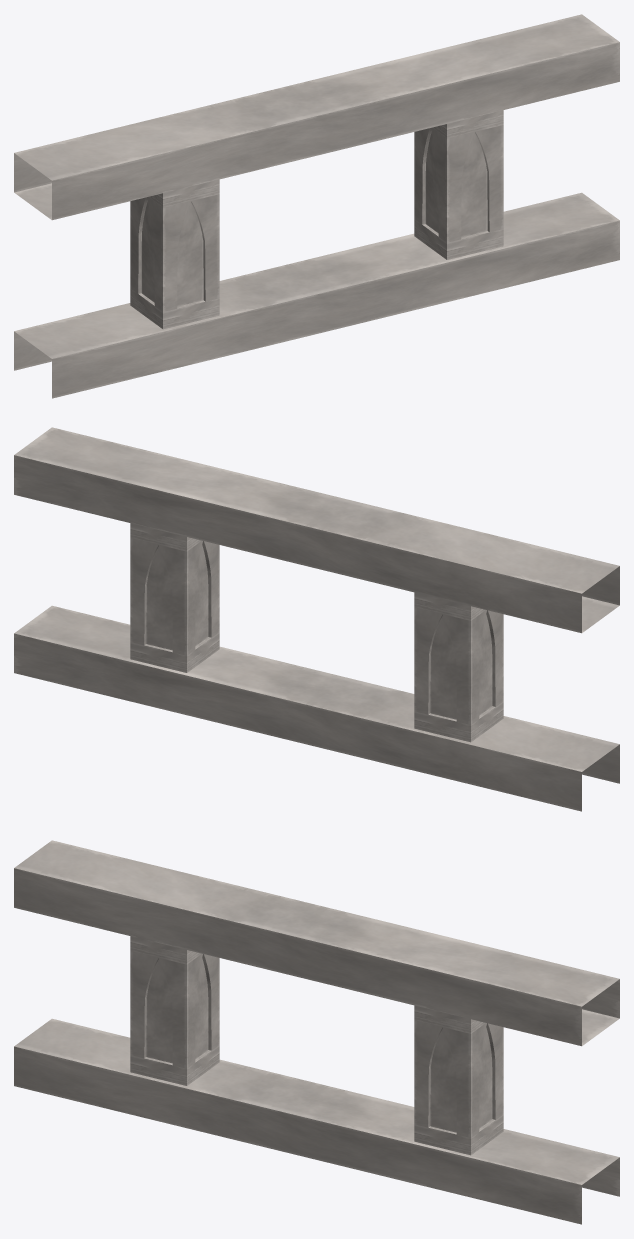
File: GuardRail_D.fbx
The picture shows the model from 3 angles, top to bottom: view 1: azimuth 30°, elevation 25°; view 2: azimuth 150°, elevation 25°; view 3: azimuth 330°, elevation 25°; orthographic projection.
Parts seen in each view (by area): view 1: GuardRail_D; view 2: GuardRail_D; view 3: GuardRail_D.
Boxes of the visible parts, x1,y1,x2,y2 form: GuardRail_D: [14, 14, 619, 398]; GuardRail_D: [14, 427, 619, 811]; GuardRail_D: [14, 840, 619, 1224].
Size of the model in its own units: 3 by 0.3477 by 1.1.
